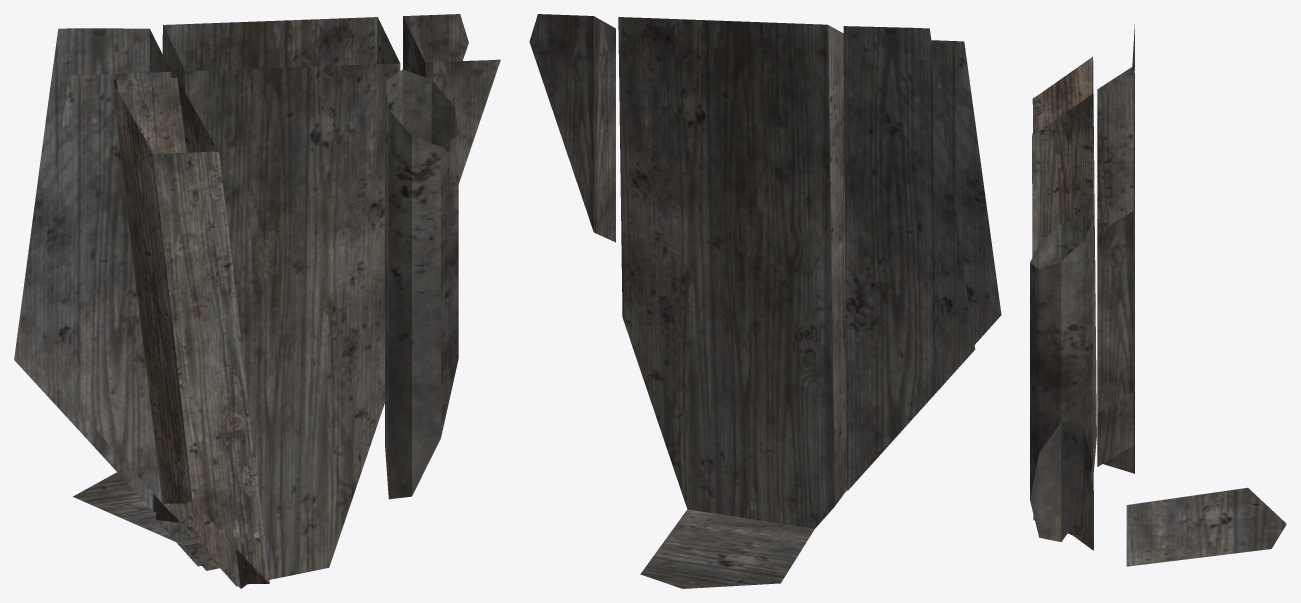
The model's file is Wagon3_14.fbx.
3 views of the same model, side by side, from view 1: azimuth 30°, elevation 25°; view 2: azimuth 150°, elevation 25°; view 3: azimuth 270°, elevation 25° (orthographic). The views are drawn at different scales.
Parts seen in each view (by area): view 1: SM_Wagon03_DM.014; view 2: SM_Wagon03_DM.014; view 3: SM_Wagon03_DM.014.
Boxes of the visible parts, x1=… form: SM_Wagon03_DM.014: x1=14, y1=14, x2=500, y2=588; SM_Wagon03_DM.014: x1=529, y1=14, x2=1001, y2=588; SM_Wagon03_DM.014: x1=1030, y1=24, x2=1286, y2=566.
Bounding box in the file's own units: 5468 × 6472 × 3165.
Materials: 1 (1 with a texture image).
